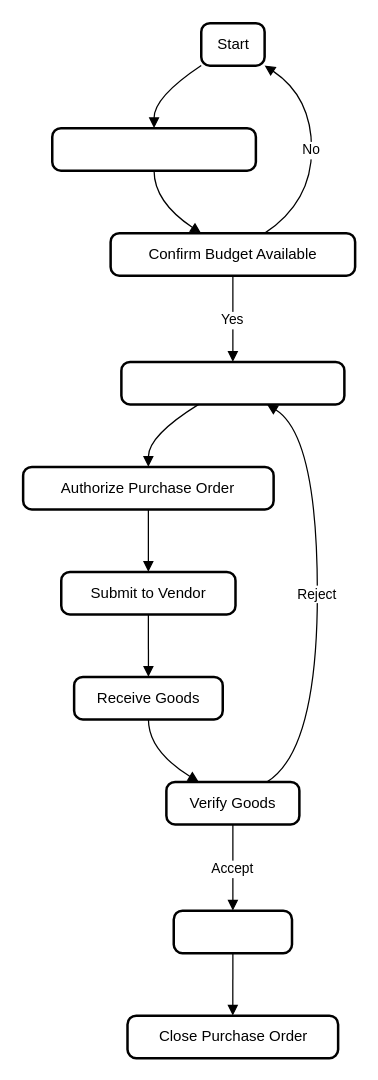
The diagram is 378 pixels wide and 1080 high, and some of its shapes have lost their labels. Each missing label, with the centre of its shape:
"Create Purchase Order" belongs at [232,382].
"Pay Vendor" belongs at [232,931].
"Requisition Received" belongs at [153,148].
